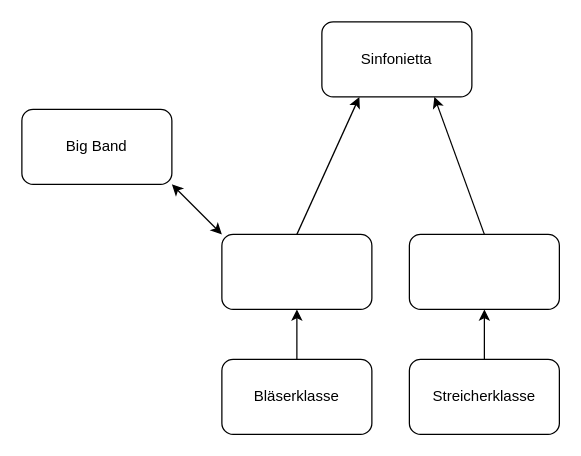
The diagram is 581 pixels wide and 456 high, and some of its shapes have lost their labels. The shapes that lost their labels are listed below. From the top down, each one's box as (x1, y1, x2, y2) in pixels, then its label:
(221, 233, 372, 309): Sinfonisches Blasorchester
(408, 233, 559, 309): Streichorchester
